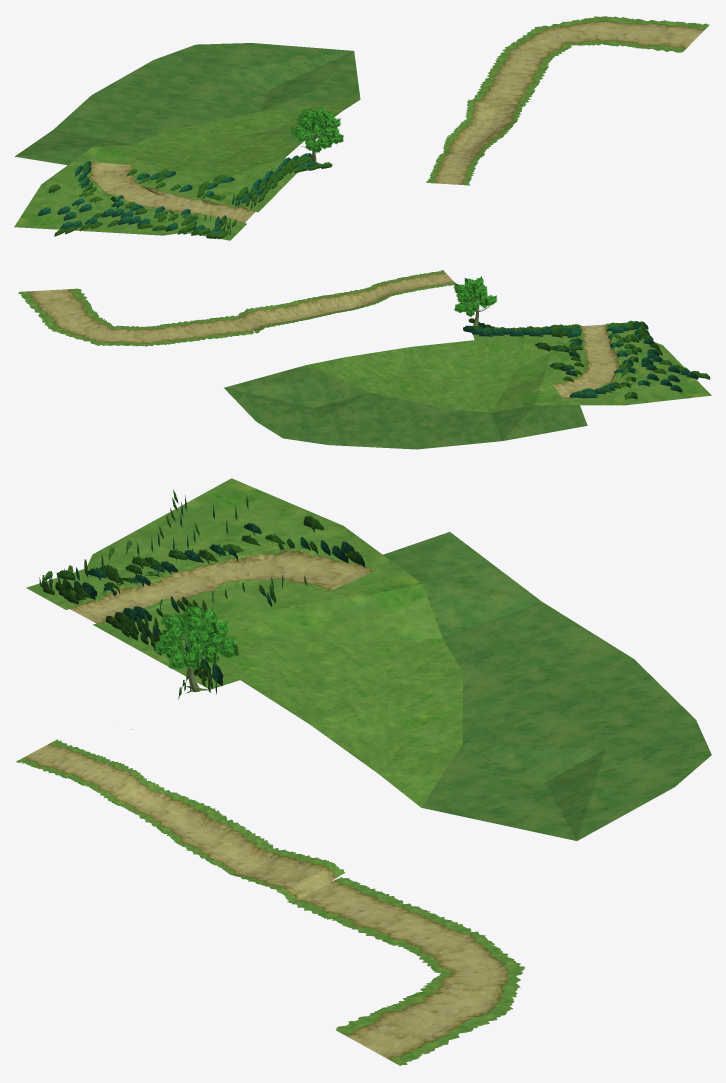
3 renders of one model, top to bottom at view 1: azimuth 30°, elevation 25°; view 2: azimuth 150°, elevation 25°; view 3: azimuth 270°, elevation 25°, orthographic. The views are drawn at different scales.
Parts seen in each view (by area): view 1: _368_sa01aflo004_003_0368_sa01aflo004_040, _359_sa01aflo009, _358_sa01aflo007_002, _337_sa01aobj006_11, _354_sa01aobj019_06_004_0354_sa01aobj019_06_005; view 2: _359_sa01aflo009, _368_sa01aflo004_003_0368_sa01aflo004_040, _358_sa01aflo007_002, _337_sa01aobj006_11, _354_sa01aobj019_06_004_0354_sa01aobj019_06_005; view 3: _368_sa01aflo004_003_0368_sa01aflo004_040, _359_sa01aflo009, _358_sa01aflo007_002, _337_sa01aobj006_11, _354_sa01aobj019_06_004_0354_sa01aobj019_06_005.
Boxes of the visible parts, box(x1,y1,x2,y2) form: _368_sa01aflo004_003_0368_sa01aflo004_040: box(15, 43, 360, 165); _359_sa01aflo009: box(14, 99, 359, 240); _358_sa01aflo007_002: box(75, 16, 709, 224); _337_sa01aobj006_11: box(38, 153, 332, 239); _354_sa01aobj019_06_004_0354_sa01aobj019_06_005: box(291, 106, 343, 153); _359_sa01aflo009: box(307, 322, 711, 412); _368_sa01aflo004_003_0368_sa01aflo004_040: box(224, 365, 587, 449); _358_sa01aflo007_002: box(18, 270, 623, 400); _337_sa01aobj006_11: box(463, 318, 710, 399); _354_sa01aobj019_06_004_0354_sa01aobj019_06_005: box(453, 276, 497, 316); _368_sa01aflo004_003_0368_sa01aflo004_040: box(383, 532, 711, 840); _359_sa01aflo009: box(26, 478, 462, 807); _358_sa01aflo007_002: box(16, 547, 524, 1065); _337_sa01aobj006_11: box(39, 489, 364, 699); _354_sa01aobj019_06_004_0354_sa01aobj019_06_005: box(154, 601, 239, 670).
Size of the model in its own units: 180 by 19.37 by 95.
7 materials, 7 textured.
